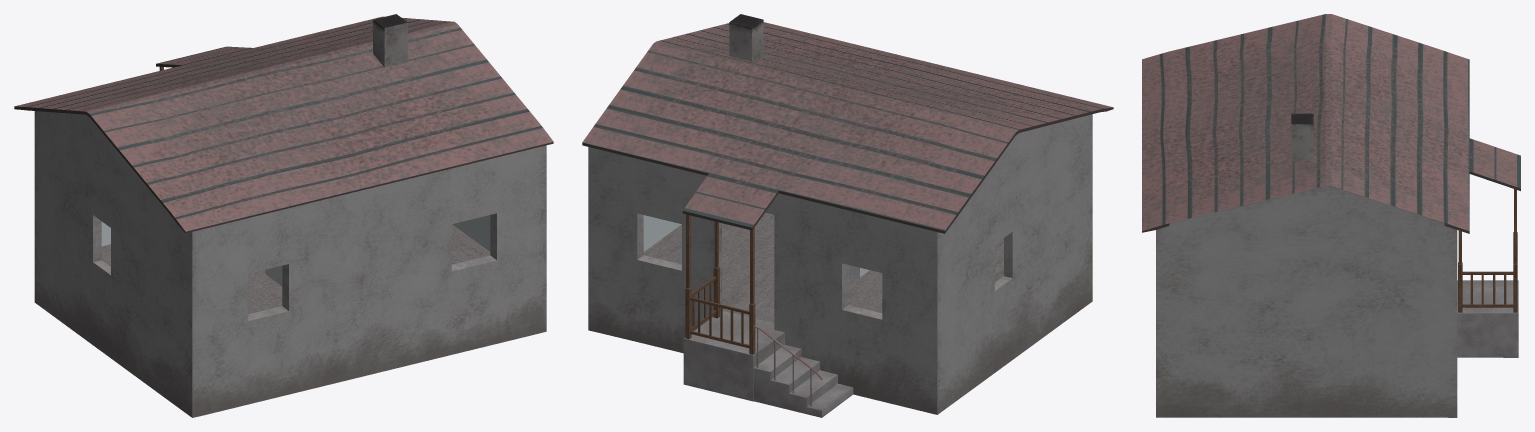
Rendered from house.fbx.
The picture shows the model from 3 angles, left to right: view 1: azimuth 30°, elevation 25°; view 2: azimuth 150°, elevation 25°; view 3: azimuth 270°, elevation 25°; orthographic projection. The views are drawn at different scales.
Visible parts, largest first — view 1: Object_house_diff.jpg; view 2: Object_house_diff.jpg, mat_1-house_diff.jpg; view 3: Object_house_diff.jpg.
Boxes of the visible parts, x1=… form: Object_house_diff.jpg: x1=14, y1=14, x2=553, y2=417; Object_house_diff.jpg: x1=582, y1=14, x2=1113, y2=417; mat_1-house_diff.jpg: x1=754, y1=325, x2=822, y2=406; Object_house_diff.jpg: x1=1142, y1=14, x2=1520, y2=417.
Bounding box in the file's own units: 2.5 × 1.78 × 2.33.
